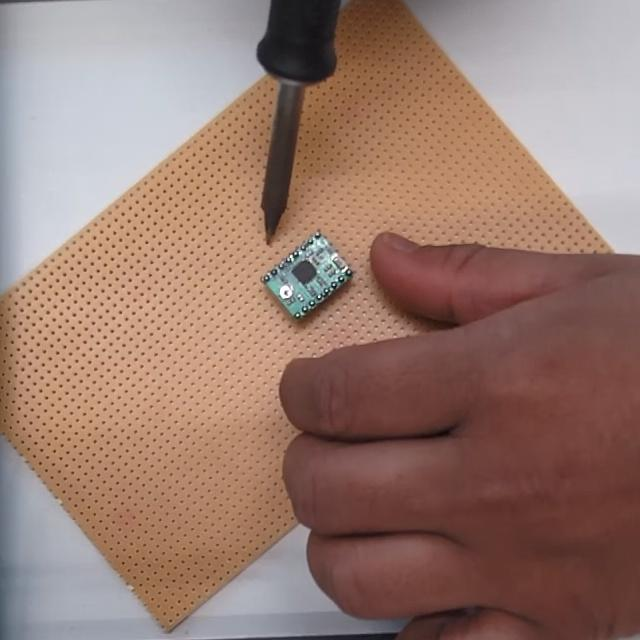Chip: (256, 231, 356, 322)
soldering_iron: (262, 0, 343, 244)
